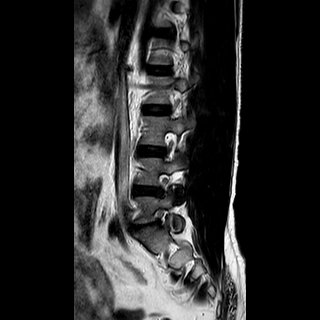RFS0: (153, 126, 180, 165), (149, 167, 175, 200), (149, 203, 174, 234)
